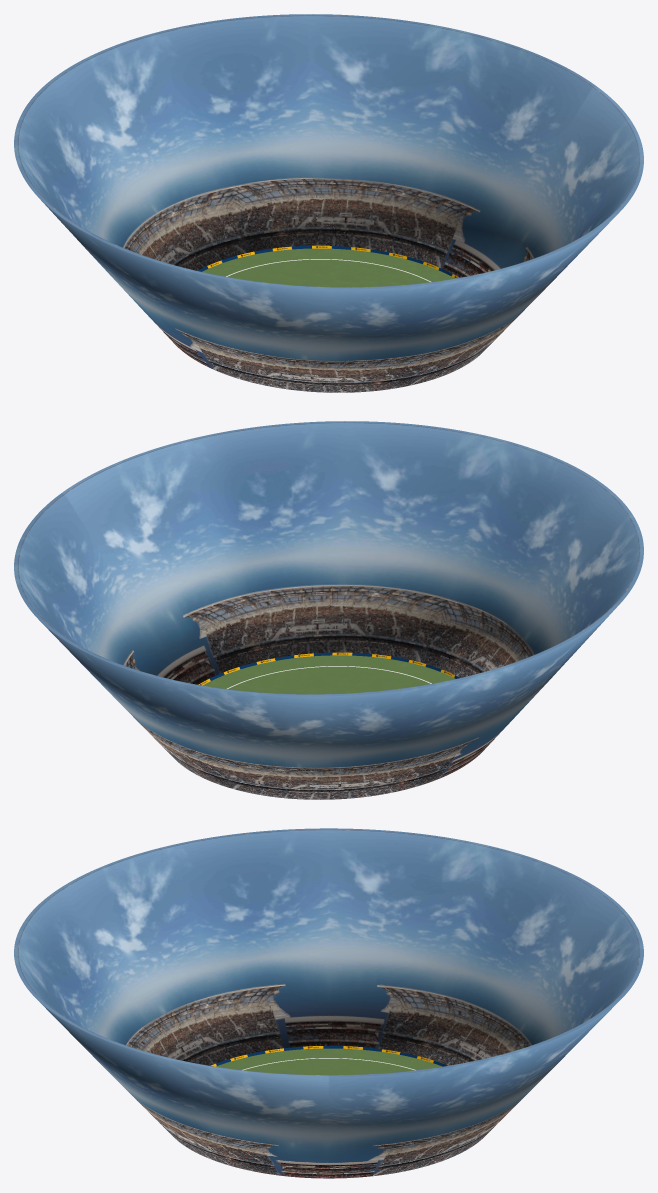
The model's file is stadium.glb.
3 renders of one model, top to bottom at view 1: azimuth 30°, elevation 25°; view 2: azimuth 150°, elevation 25°; view 3: azimuth 270°, elevation 25°, orthographic. The views are drawn at different scales.
Parts seen in each view (by area): view 1: stadium, outer_ground; view 2: stadium, outer_ground; view 3: stadium, outer_ground.
Boxes of the visible parts, <box> form: stadium: <box>14,14,643,392</box>; outer_ground: <box>202,248,454,287</box>; stadium: <box>14,421,643,799</box>; outer_ground: <box>203,655,455,694</box>; stadium: <box>14,828,643,1178</box>; outer_ground: <box>216,1048,441,1075</box>.
Bounding box in the file's own units: 272 × 81.42 × 291.
6 materials, 6 textured.
